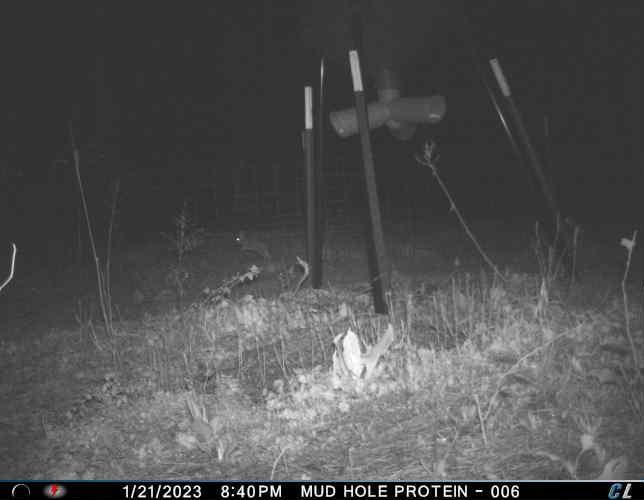Rabbit: (232, 228, 274, 264)
